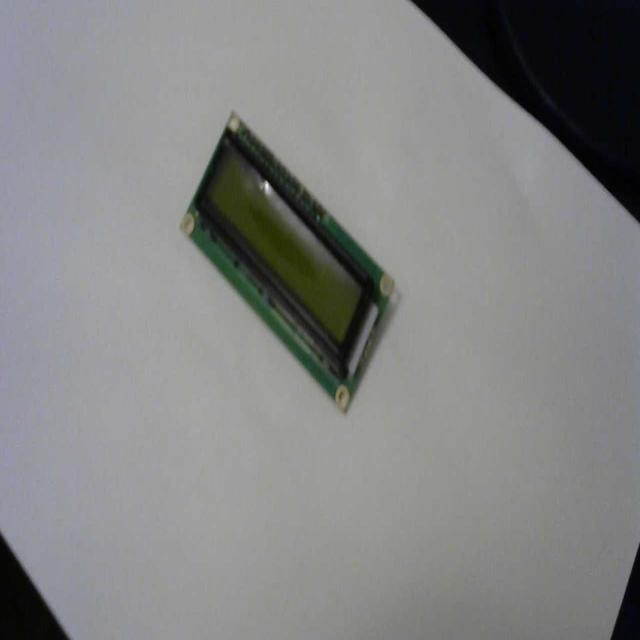lcd: (180, 108, 396, 414)
